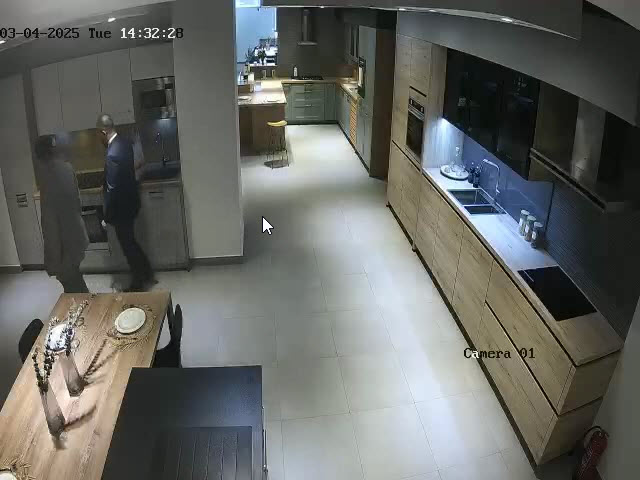employee: (92, 111, 152, 288)
male: (26, 129, 85, 292)
